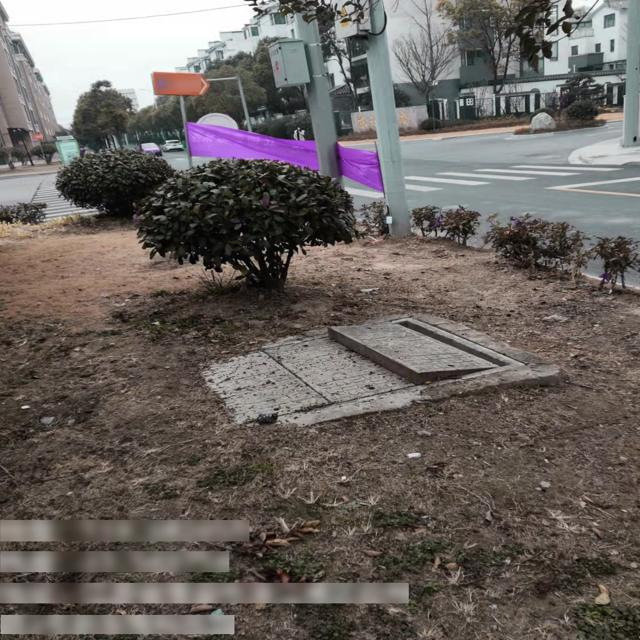uncovered: (202, 317, 526, 427)
